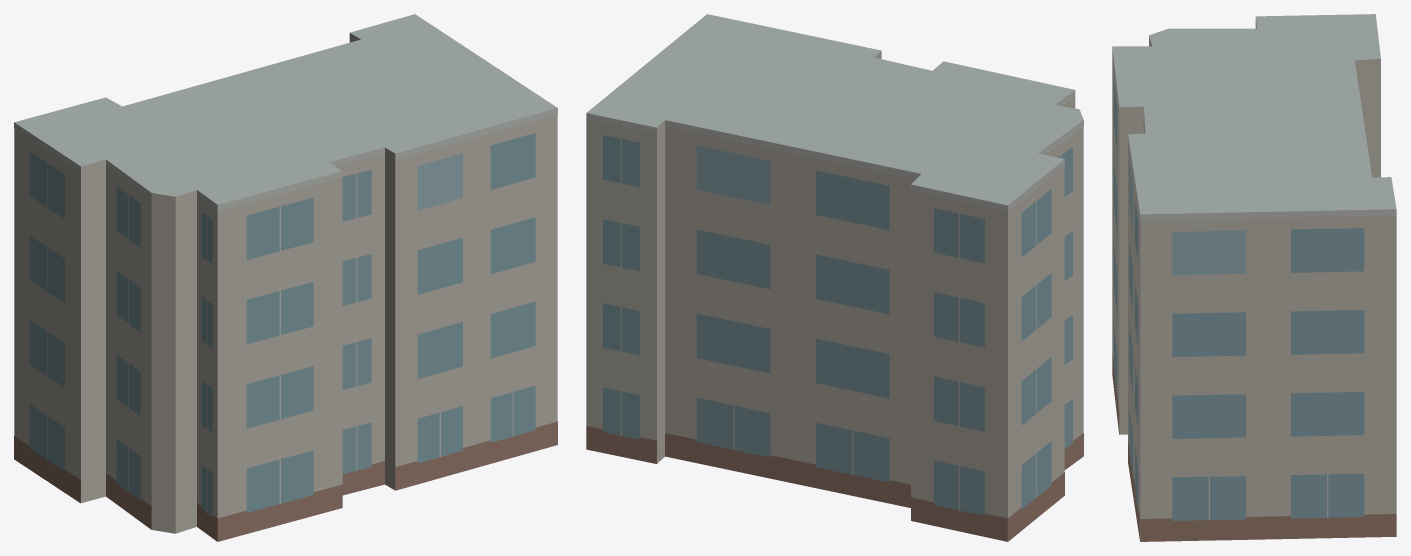
Rendered from survey-upis-32613562.glb.
The picture shows the model from 3 angles, left to right: view 1: azimuth 30°, elevation 25°; view 2: azimuth 150°, elevation 25°; view 3: azimuth 270°, elevation 25°; orthographic projection. The views are drawn at different scales.
Visible parts, largest first — view 1: survey-upis-32613562.tmp; view 2: survey-upis-32613562.tmp; view 3: survey-upis-32613562.tmp.
Boxes of the visible parts, x1,y1,x2,y2 form: survey-upis-32613562.tmp: [14, 14, 557, 541]; survey-upis-32613562.tmp: [586, 14, 1083, 541]; survey-upis-32613562.tmp: [1112, 14, 1396, 541].
Bounding box in the file's own units: 17.07 × 13 × 10.24.
